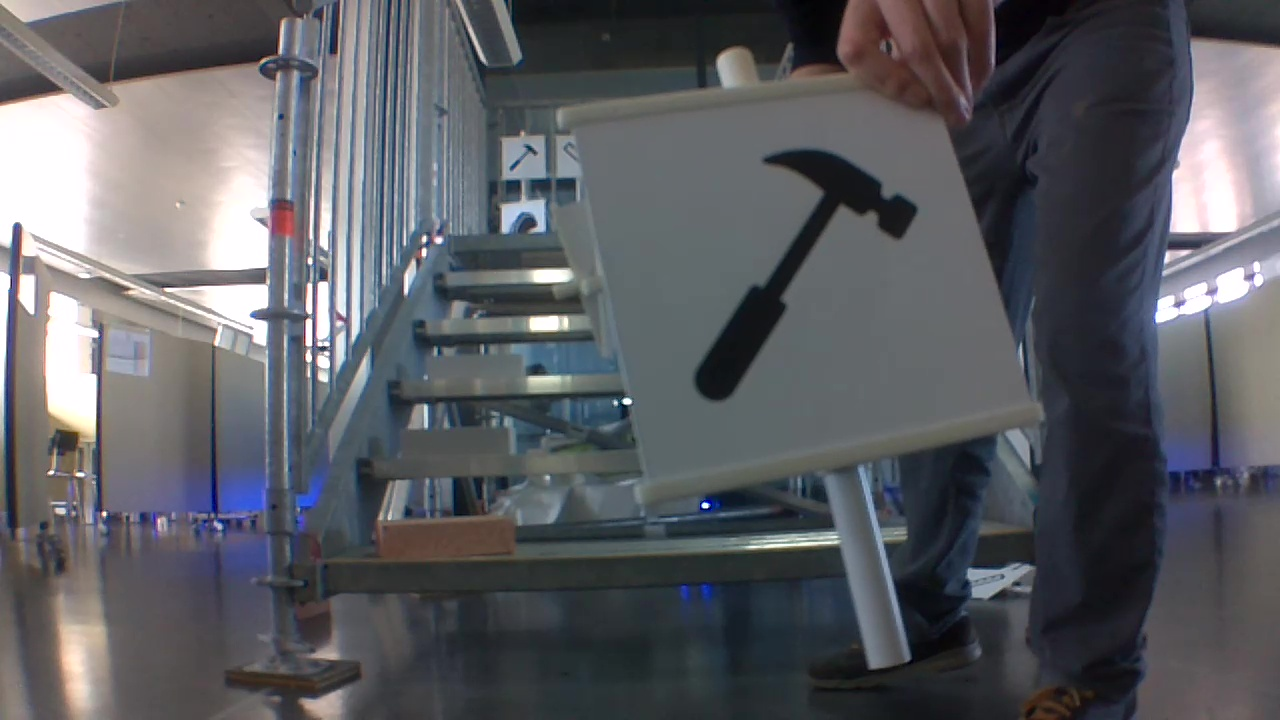brick: (364, 509, 523, 563), (393, 422, 518, 459), (424, 353, 523, 381)
hammer: (688, 141, 922, 405), (507, 141, 539, 173)
taco: (505, 207, 541, 237)
